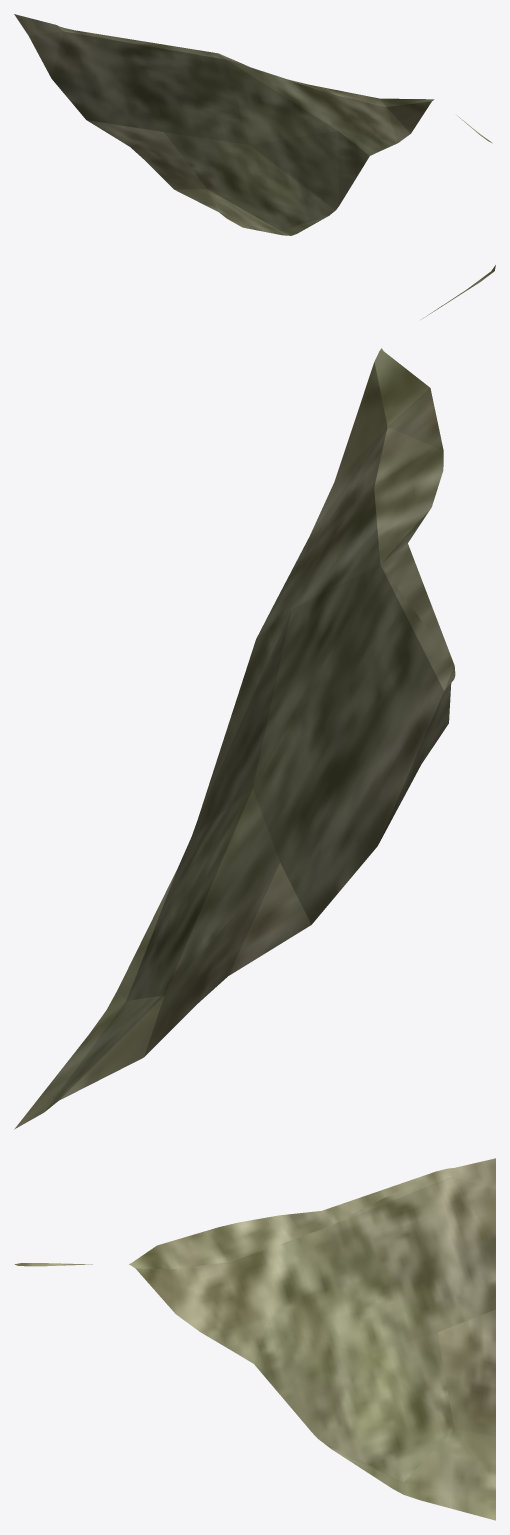
The picture shows the model from 3 angles, top to bottom: view 1: azimuth 30°, elevation 25°; view 2: azimuth 150°, elevation 25°; view 3: azimuth 270°, elevation 25°; orthographic projection. The views are drawn at different scales.
Bounding box in the file's own units: 0.5193 × 0.5847 × 0.9967.
1 material, 1 textured.
